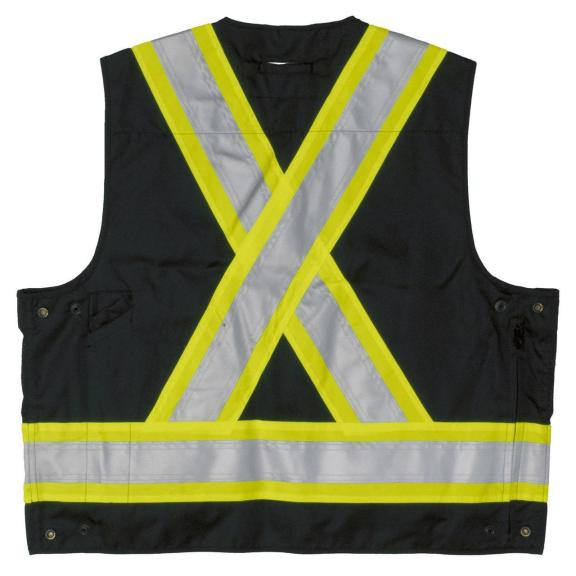safety_vest: (14, 16, 560, 554)
